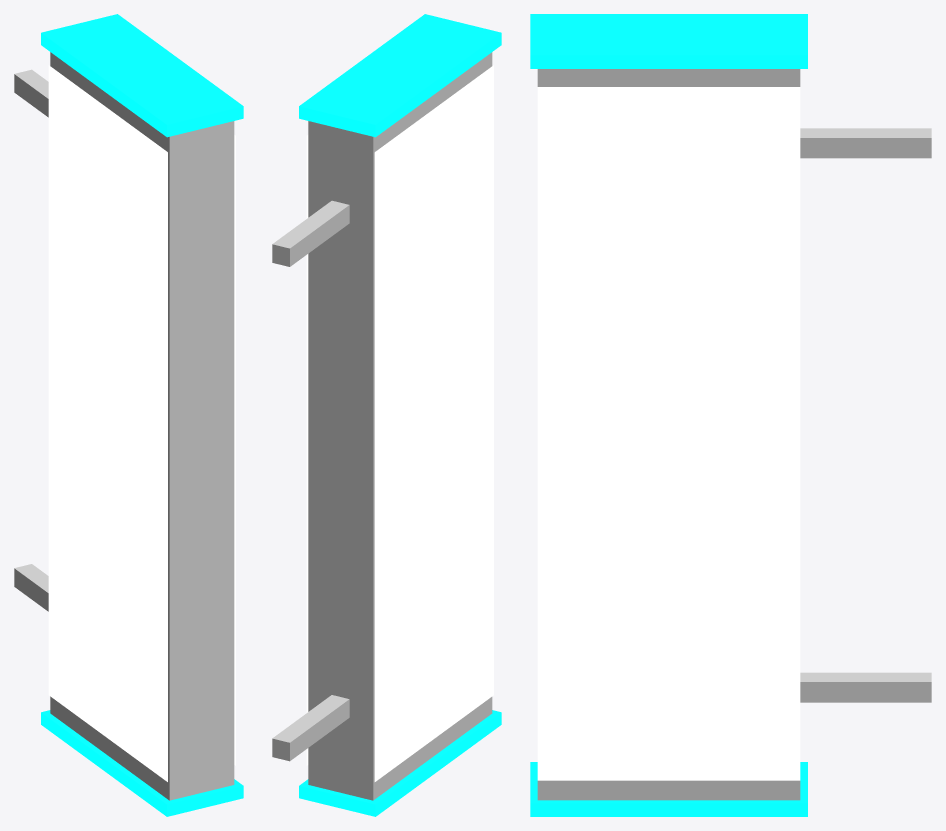
Rendered from OCK_Prop_BladeSign_B.fbx.
The picture shows the model from 3 angles, left to right: view 1: azimuth 30°, elevation 25°; view 2: azimuth 150°, elevation 25°; view 3: azimuth 270°, elevation 25°; orthographic projection. The views are drawn at different scales.
Visible parts, largest first — view 1: OCK_Prop_BladeSign_B; view 2: OCK_Prop_BladeSign_B; view 3: OCK_Prop_BladeSign_B.
Part boxes in pixels (x1=…): OCK_Prop_BladeSign_B: x1=14, y1=14, x2=243, y2=816; OCK_Prop_BladeSign_B: x1=272, y1=14, x2=501, y2=816; OCK_Prop_BladeSign_B: x1=530, y1=14, x2=931, y2=816.
Bounding box in the file's own units: 26 × 224 × 107.
